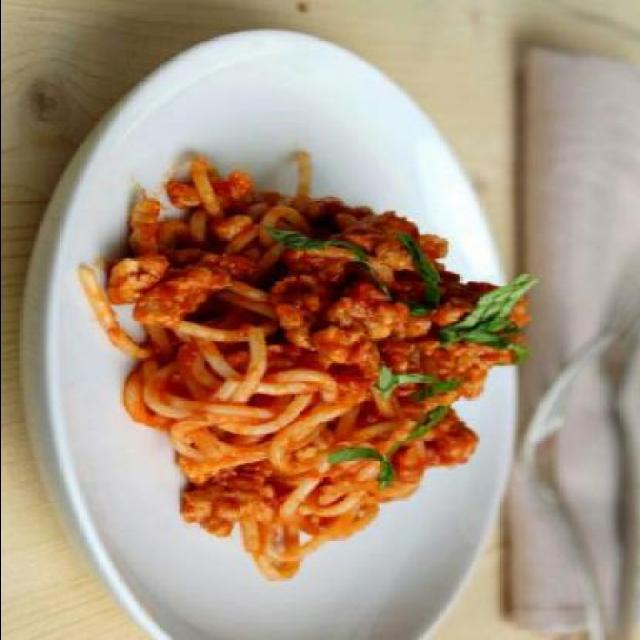Pasta al ragu: (95, 163, 572, 572)
